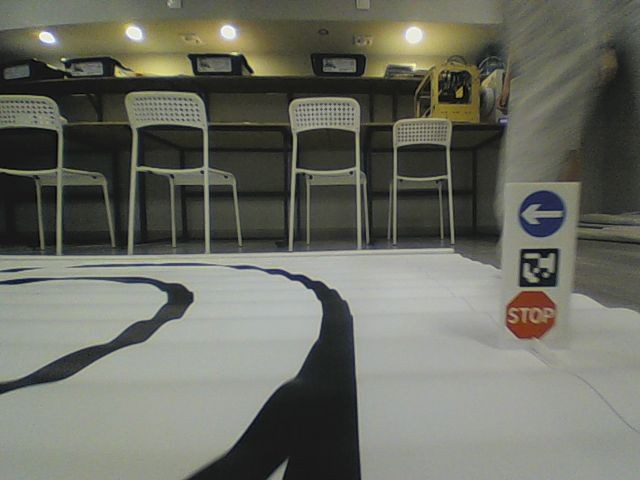Stop: (503, 289, 559, 342)
